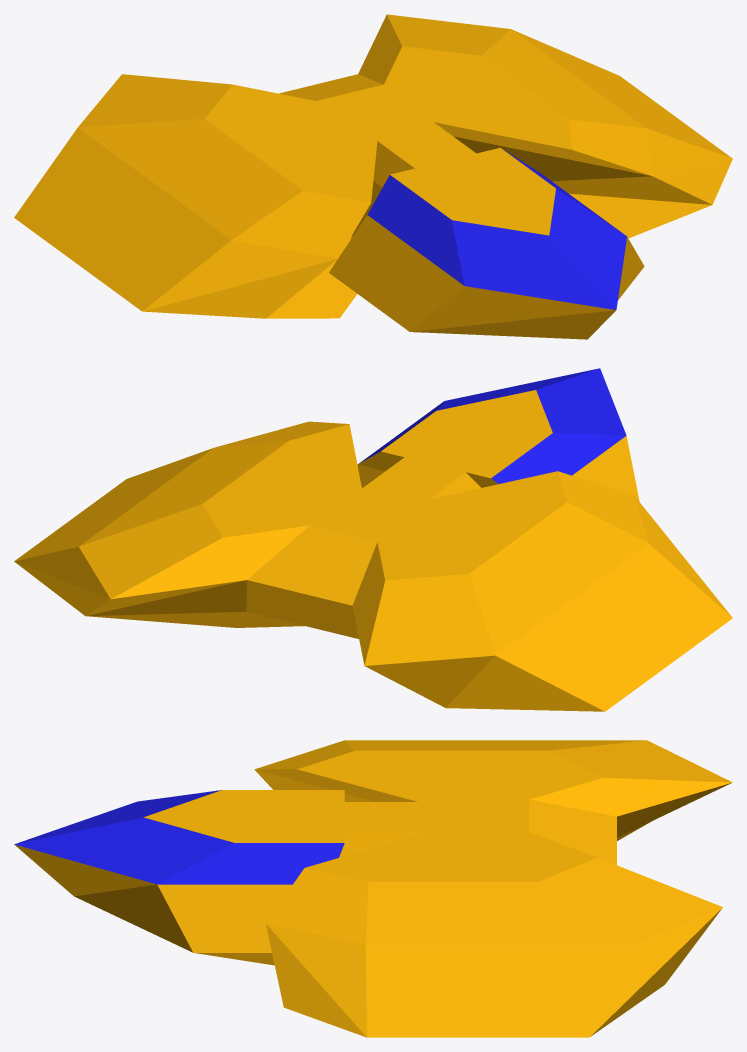
The model's file is enemyStem.dae.
3 renders of one model, top to bottom at view 1: azimuth 30°, elevation 25°; view 2: azimuth 150°, elevation 25°; view 3: azimuth 270°, elevation 25°, orthographic.
Visible parts, largest first — view 1: SketchUp (×2); view 2: SketchUp (×2); view 3: SketchUp (×2).
Part boxes in pixels (x1,y1,x2,y2): SketchUp (×2): [14, 14, 732, 339]; SketchUp (×2): [14, 368, 732, 711]; SketchUp (×2): [14, 740, 732, 1037].
Bounding box in the file's own units: 129 × 136 × 24.45.
